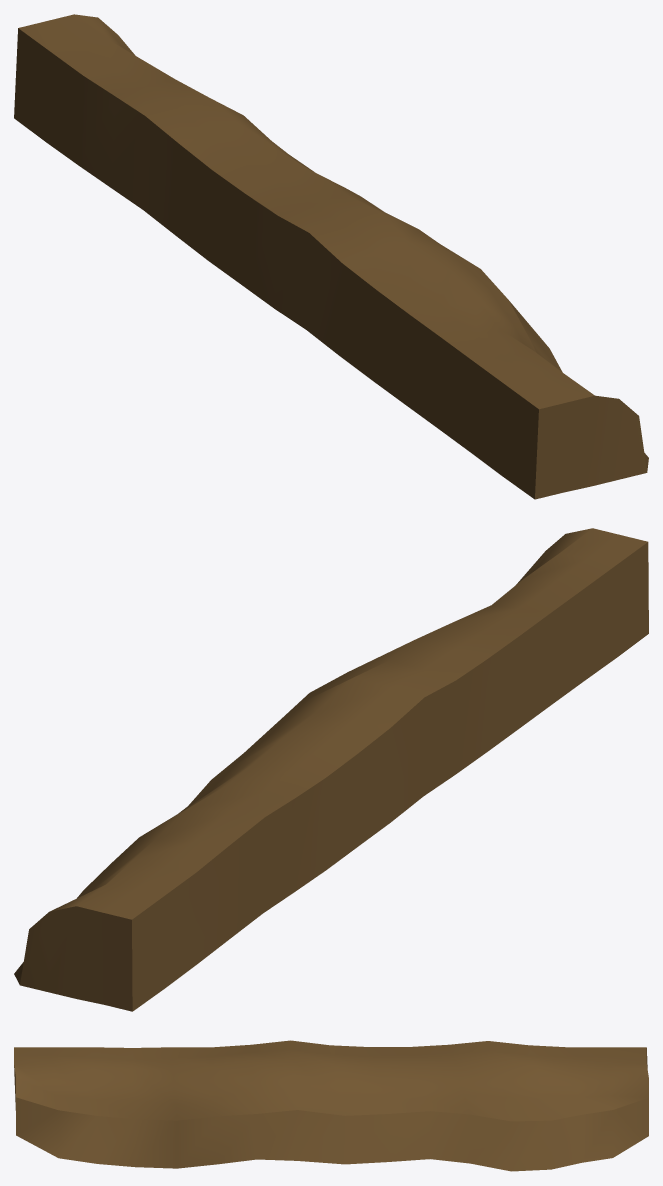
File: CostadoArena.fbx
3 views of the same model, one above another, from view 1: azimuth 30°, elevation 25°; view 2: azimuth 150°, elevation 25°; view 3: azimuth 270°, elevation 25° (orthographic). The views are drawn at different scales.
Visible parts, largest first — view 1: Costado; view 2: Costado; view 3: Costado.
Boxes of the visible parts, box(x1,y1,x2,y2) form: Costado: box(14, 14, 648, 499); Costado: box(14, 528, 648, 1011); Costado: box(14, 1040, 648, 1171).
Size of the model in its own units: 1137 by 820 by 5647.
